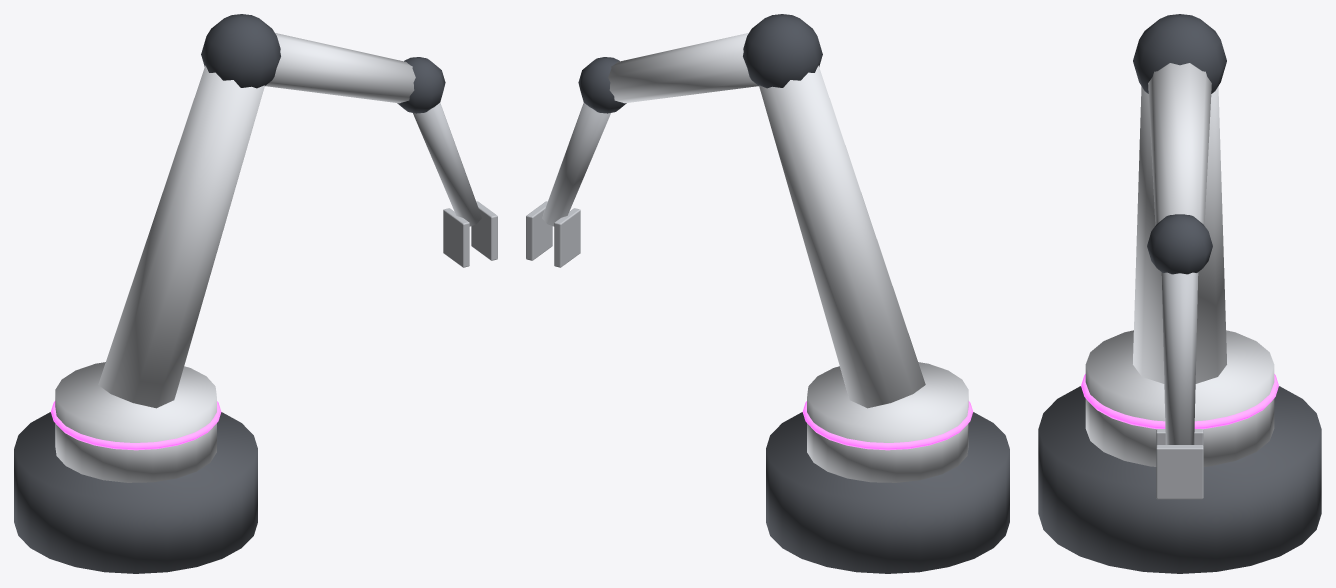
File: robot_arm_bar_arm.glb
The picture shows the model from 3 angles, left to right: view 1: azimuth 30°, elevation 25°; view 2: azimuth 150°, elevation 25°; view 3: azimuth 270°, elevation 25°; orthographic projection. The views are drawn at different scales.
Parts seen in each view (by area): view 1: GD_robot_arm_bar_arm__m1, GD_robot_arm_bar_arm__m0, GD_robot_arm_bar_arm__m2, GD_robot_arm_bar_arm__m3, GD_robot_arm_bar_arm__m4; view 2: GD_robot_arm_bar_arm__m1, GD_robot_arm_bar_arm__m0, GD_robot_arm_bar_arm__m2, GD_robot_arm_bar_arm__m3, GD_robot_arm_bar_arm__m4; view 3: GD_robot_arm_bar_arm__m1, GD_robot_arm_bar_arm__m0, GD_robot_arm_bar_arm__m3, GD_robot_arm_bar_arm__m2, GD_robot_arm_bar_arm__m4.
Boxes of the visible parts, box(x1,y1,x2,y2) form: GD_robot_arm_bar_arm__m1: box(55, 33, 415, 482); GD_robot_arm_bar_arm__m0: box(14, 412, 257, 573); GD_robot_arm_bar_arm__m2: box(201, 14, 445, 113); GD_robot_arm_bar_arm__m3: box(413, 102, 497, 267); GD_robot_arm_bar_arm__m4: box(50, 401, 221, 450); GD_robot_arm_bar_arm__m1: box(608, 33, 968, 482); GD_robot_arm_bar_arm__m0: box(766, 412, 1009, 573); GD_robot_arm_bar_arm__m2: box(578, 14, 822, 113); GD_robot_arm_bar_arm__m3: box(526, 102, 610, 267); GD_robot_arm_bar_arm__m4: box(802, 401, 973, 450); GD_robot_arm_bar_arm__m1: box(1085, 63, 1274, 466); GD_robot_arm_bar_arm__m0: box(1038, 386, 1321, 573); GD_robot_arm_bar_arm__m3: box(1156, 272, 1203, 499); GD_robot_arm_bar_arm__m2: box(1133, 14, 1226, 274); GD_robot_arm_bar_arm__m4: box(1081, 374, 1278, 429).
Size of the model in its own units: 1.3 by 1.3 by 0.6.
